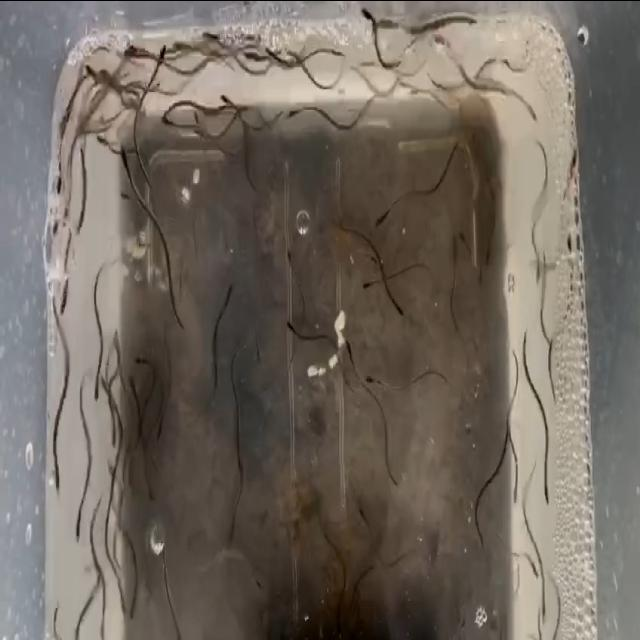inactive_glass_eel: (224, 511, 245, 566), (124, 586, 148, 623), (433, 27, 455, 66), (222, 266, 238, 312), (284, 245, 302, 282), (154, 30, 172, 67), (371, 200, 391, 233), (536, 472, 554, 508), (90, 368, 102, 422), (455, 230, 475, 262), (361, 362, 383, 390), (94, 116, 110, 154), (358, 274, 378, 304), (48, 456, 63, 496), (358, 3, 376, 36), (73, 498, 83, 555), (449, 230, 464, 266), (471, 511, 486, 546), (120, 140, 132, 182), (124, 374, 142, 402), (109, 327, 122, 365), (283, 311, 298, 343), (532, 595, 552, 618), (264, 42, 280, 70), (354, 500, 369, 529), (508, 472, 520, 508), (152, 111, 170, 135), (85, 58, 97, 93), (344, 336, 356, 370), (526, 546, 536, 586), (220, 86, 236, 110), (152, 422, 164, 454), (391, 300, 408, 322), (105, 465, 118, 492), (118, 584, 126, 618), (60, 288, 68, 316), (133, 351, 143, 371), (287, 100, 296, 120)
